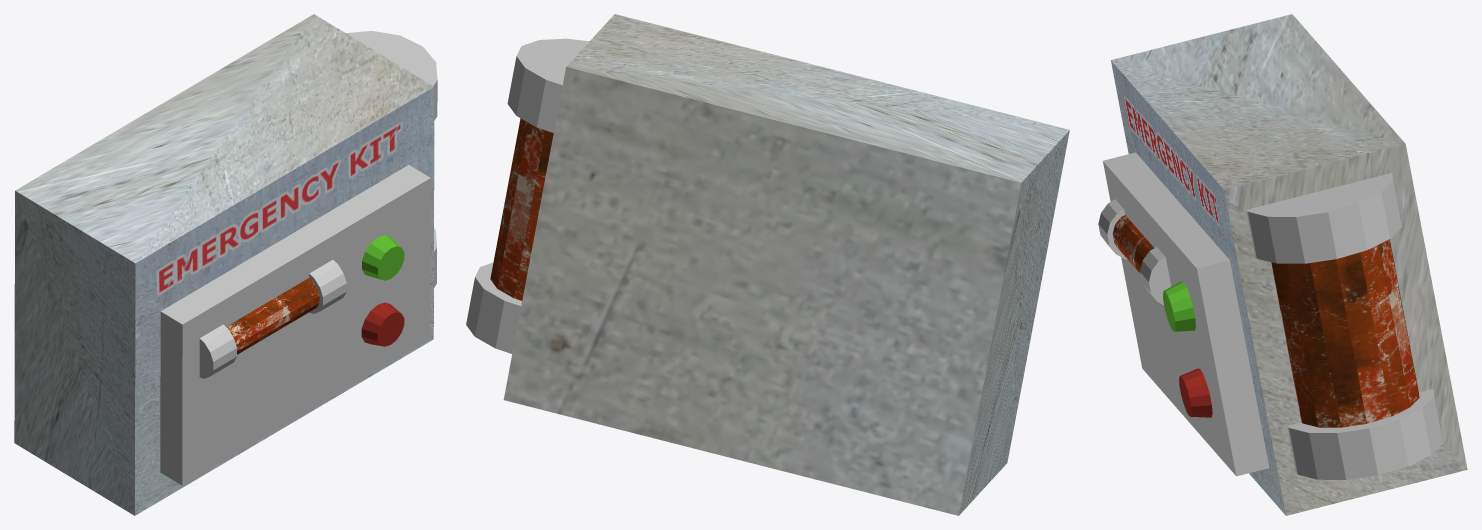
File: healtpacktestii.fbx
3 views of the same model, side by side, from view 1: azimuth 30°, elevation 25°; view 2: azimuth 150°, elevation 25°; view 3: azimuth 270°, elevation 25° (orthographic). The views are drawn at different scales.
Parts seen in each view (by area): view 1: Cube; view 2: Cube; view 3: Cube.
Boxes of the visible parts, x1,y1,x2,y2 form: Cube: (14, 14, 437, 515); Cube: (466, 14, 1069, 515); Cube: (1098, 14, 1467, 515).
Size of the model in its own units: 687 by 525 by 443.
